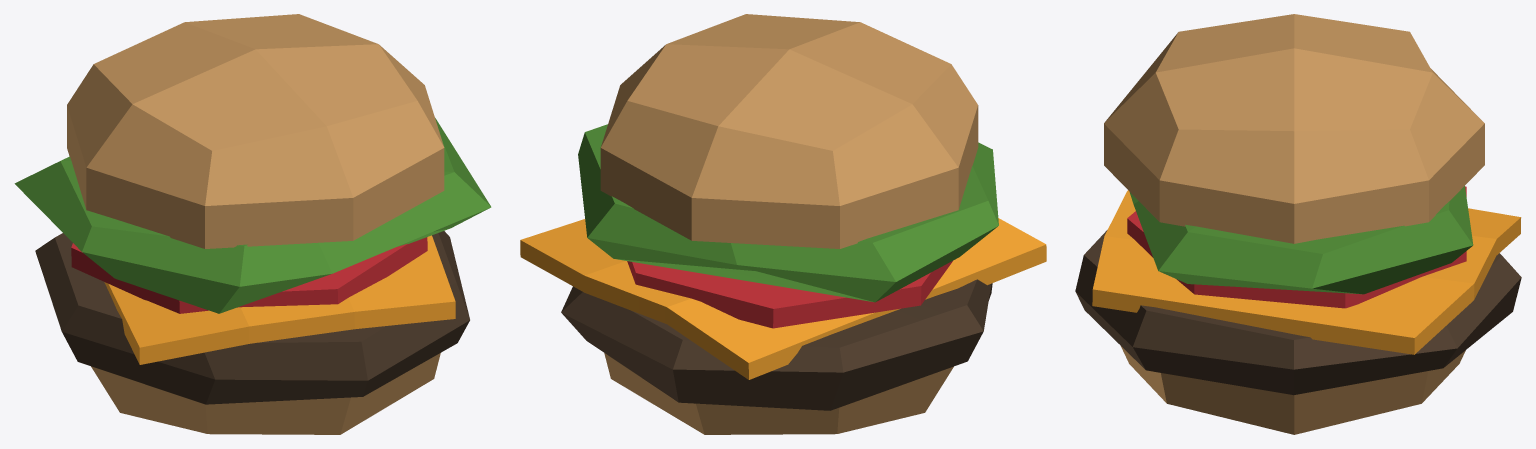
Rendered from food_burger.fbx.
3 renders of one model, left to right at view 1: azimuth 30°, elevation 25°; view 2: azimuth 150°, elevation 25°; view 3: azimuth 270°, elevation 25°, orthographic. The views are drawn at different scales.
Visible parts, largest first — view 1: food_burger; view 2: food_burger; view 3: food_burger.
Boxes of the visible parts, left/top/right/bottom form: food_burger: left=14, top=14, right=491, bottom=434; food_burger: left=520, top=14, right=1046, bottom=434; food_burger: left=1075, top=14, right=1521, bottom=434.
Size of the model in its own units: 200 by 165 by 198.
